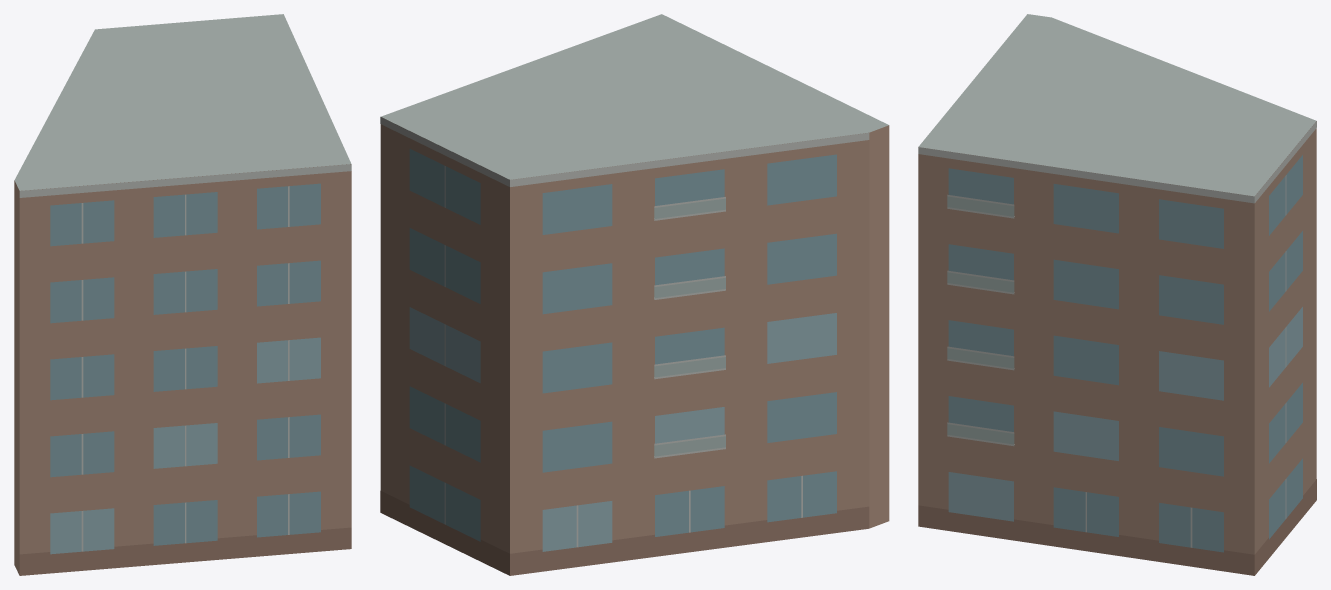
The model's file is survey-upis-32512809.glb.
3 renders of one model, left to right at view 1: azimuth 30°, elevation 25°; view 2: azimuth 150°, elevation 25°; view 3: azimuth 270°, elevation 25°, orthographic. The views are drawn at different scales.
Visible parts, largest first — view 1: survey-upis-32512809.tmp; view 2: survey-upis-32512809.tmp; view 3: survey-upis-32512809.tmp.
Boxes of the visible parts, box(x1,y1,x2,y2) form: survey-upis-32512809.tmp: box(14, 14, 351, 575); survey-upis-32512809.tmp: box(380, 14, 889, 575); survey-upis-32512809.tmp: box(918, 14, 1316, 575).
Bounding box in the file's own units: 13.62 × 13.2 × 12.57.
